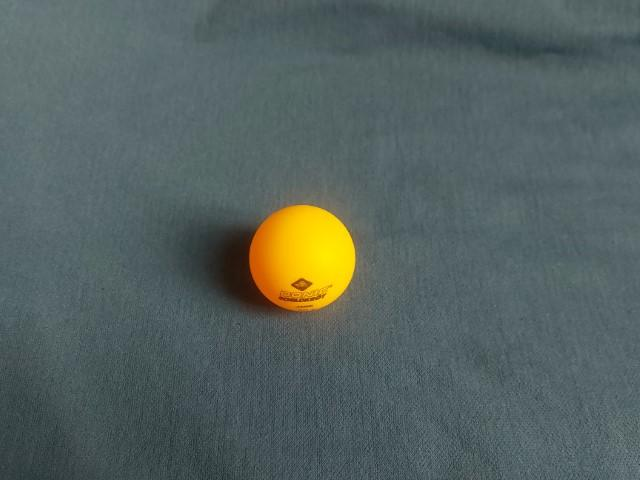oball: (239, 197, 363, 318)
